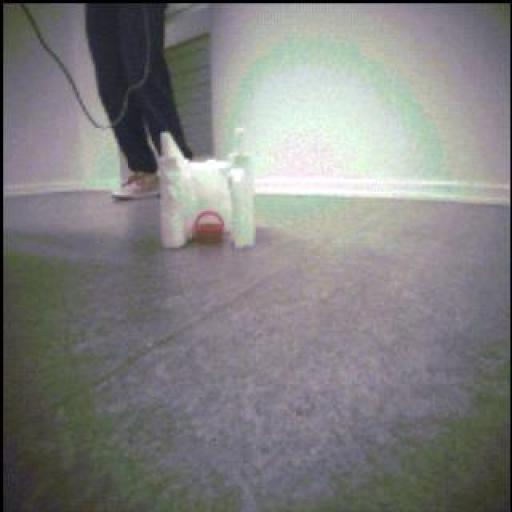Bucket: (192, 210, 230, 246)
